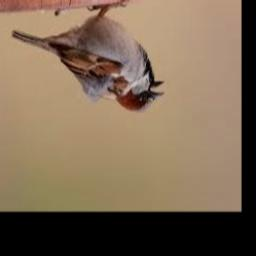Sparrow: (12, 0, 166, 114)
